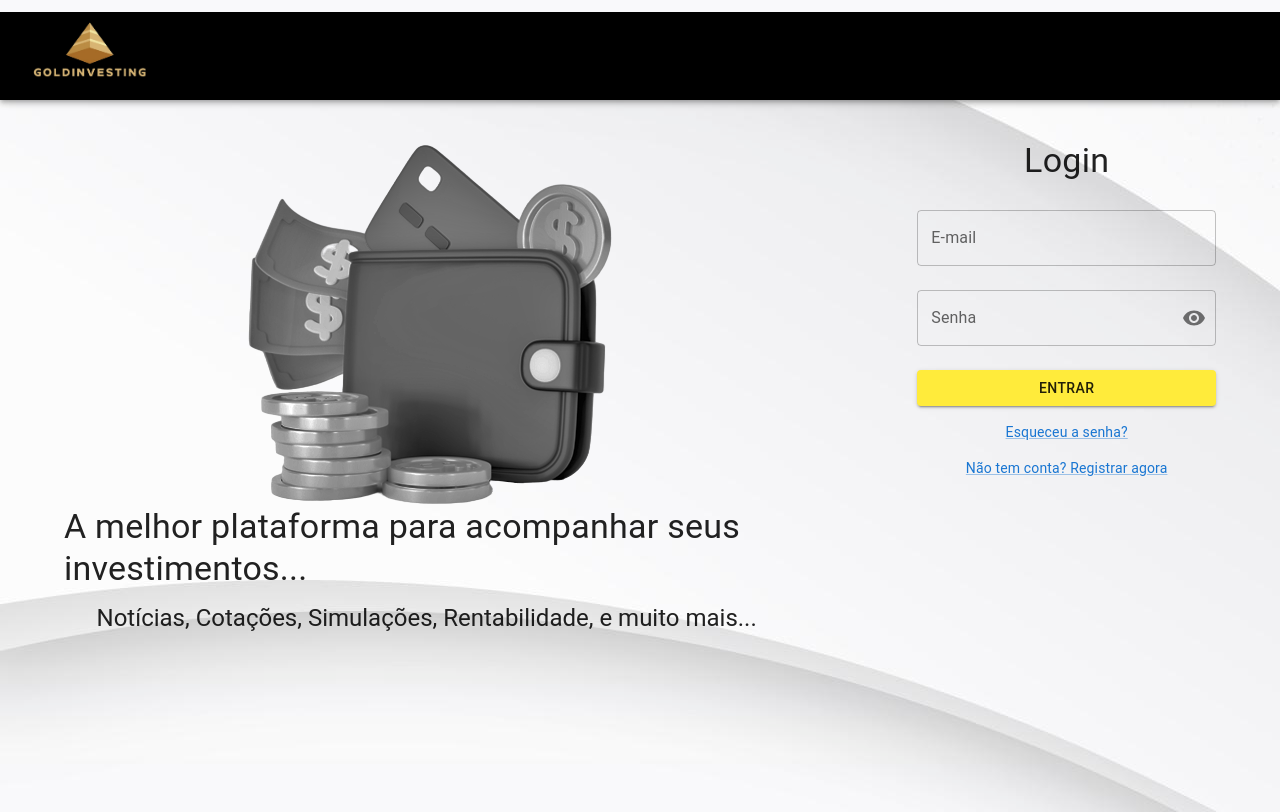
Test: Login Component › shows error message when fields are empty and login button is clicked
Click the button "Entrar": click(1067, 388) left=917, top=370, right=1216, bottom=406
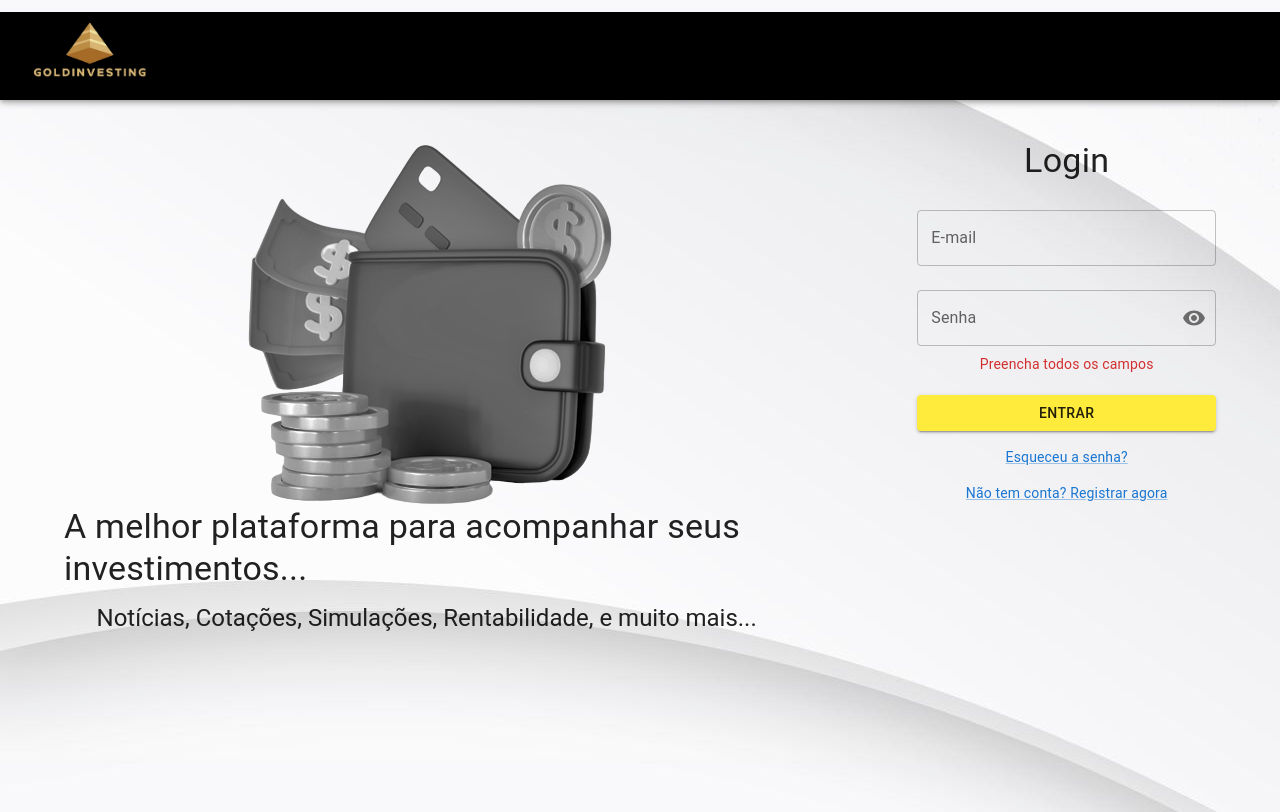
expect the text "Preencha todos os campos" is shown: met, box left=980, top=354, right=1154, bottom=374
